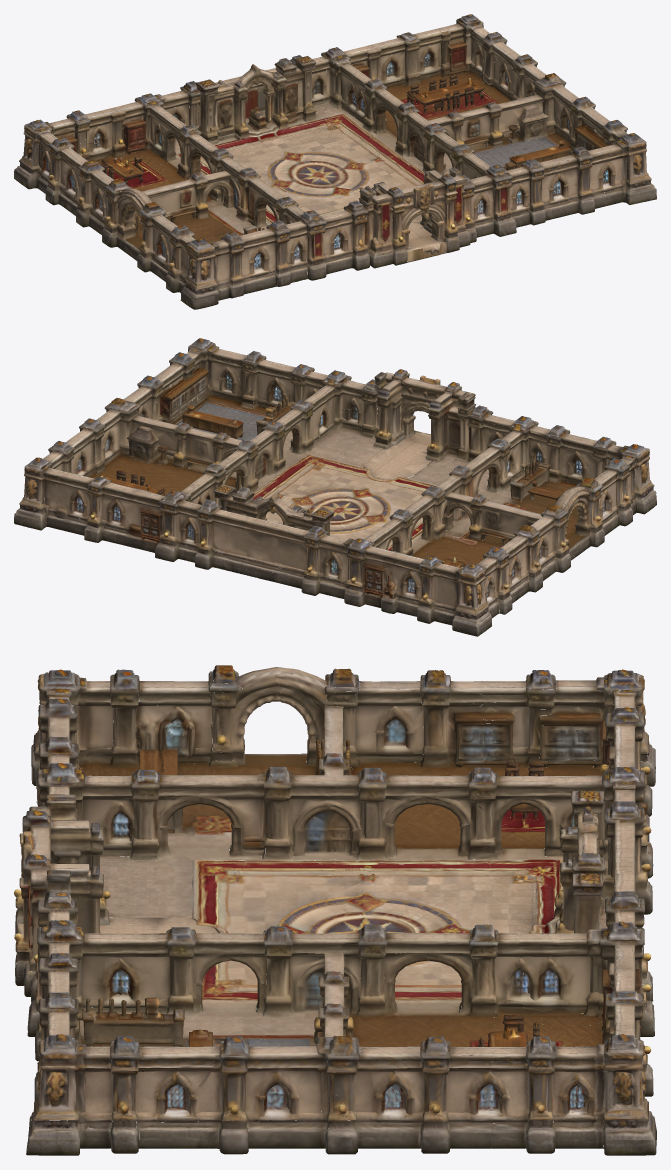
Rendered from castle.glb.
The picture shows the model from 3 angles, top to bottom: view 1: azimuth 30°, elevation 25°; view 2: azimuth 150°, elevation 25°; view 3: azimuth 270°, elevation 25°; orthographic projection. The views are drawn at different scales.
Parts seen in each view (by area): view 1: nebeljagd-tripo-castle; view 2: nebeljagd-tripo-castle; view 3: nebeljagd-tripo-castle.
Boxes of the visible parts, box(x1,y1,x2,y2) form: nebeljagd-tripo-castle: box(14, 14, 656, 309); nebeljagd-tripo-castle: box(14, 338, 656, 636); nebeljagd-tripo-castle: box(14, 665, 656, 1155).
Size of the model in its own units: 70 by 10.66 by 48.6.
1 material, 1 textured.
